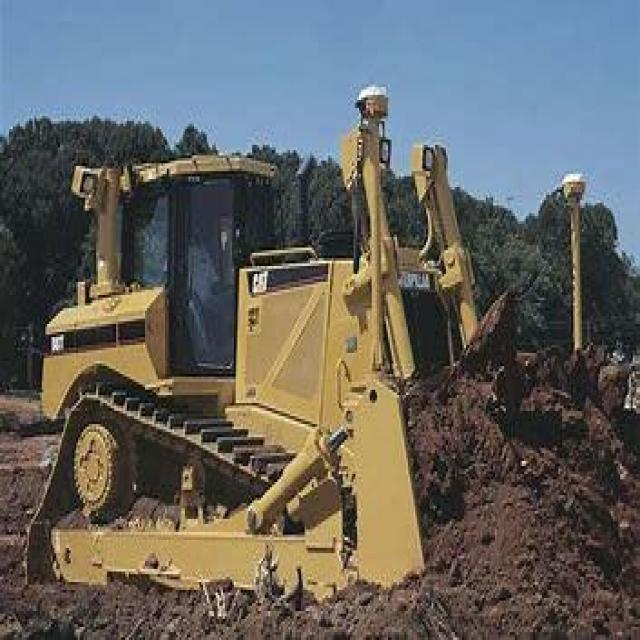Bulldozer: (20, 87, 564, 606)
